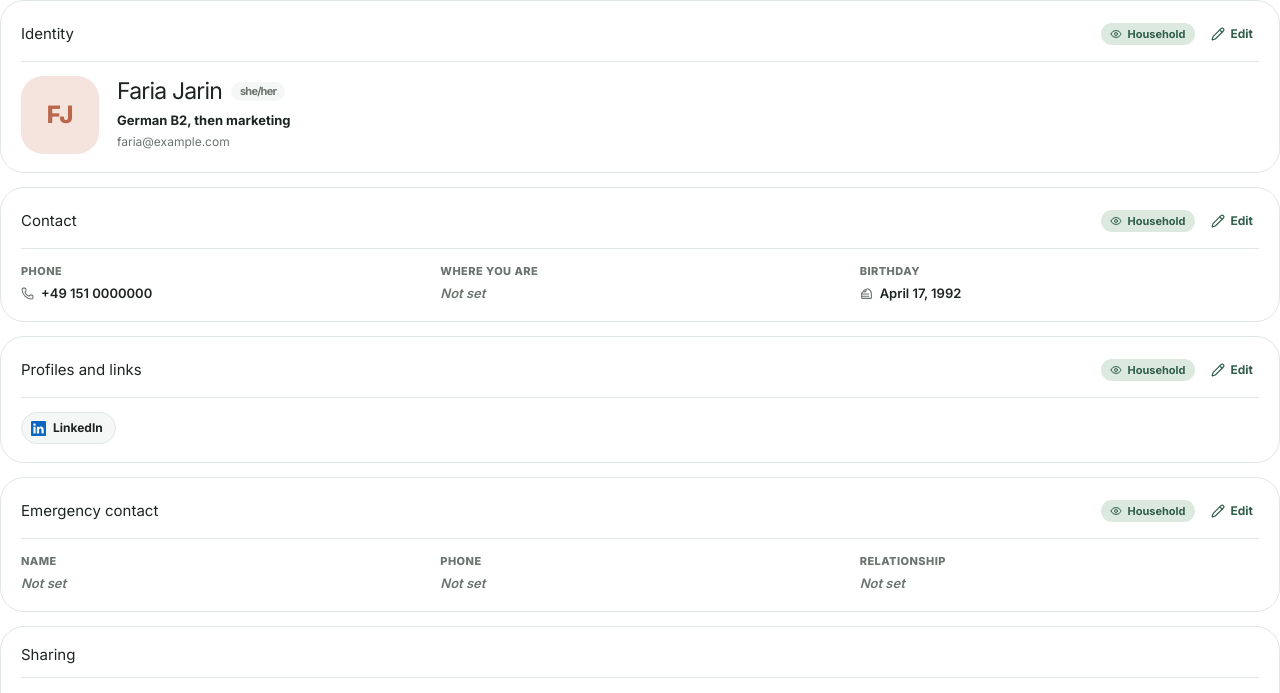
ProfileSettings › saves the section and returns to the profile
The width and height of the screenshot is (1280, 693).
Expected: the heading "Faria Jarin she/her" is shown, x1=117 y1=78 x2=291 y2=106
Click the button with aria-label "Edit identity": coordinates (1232, 34) x1=1204 y1=19 x2=1259 y2=49
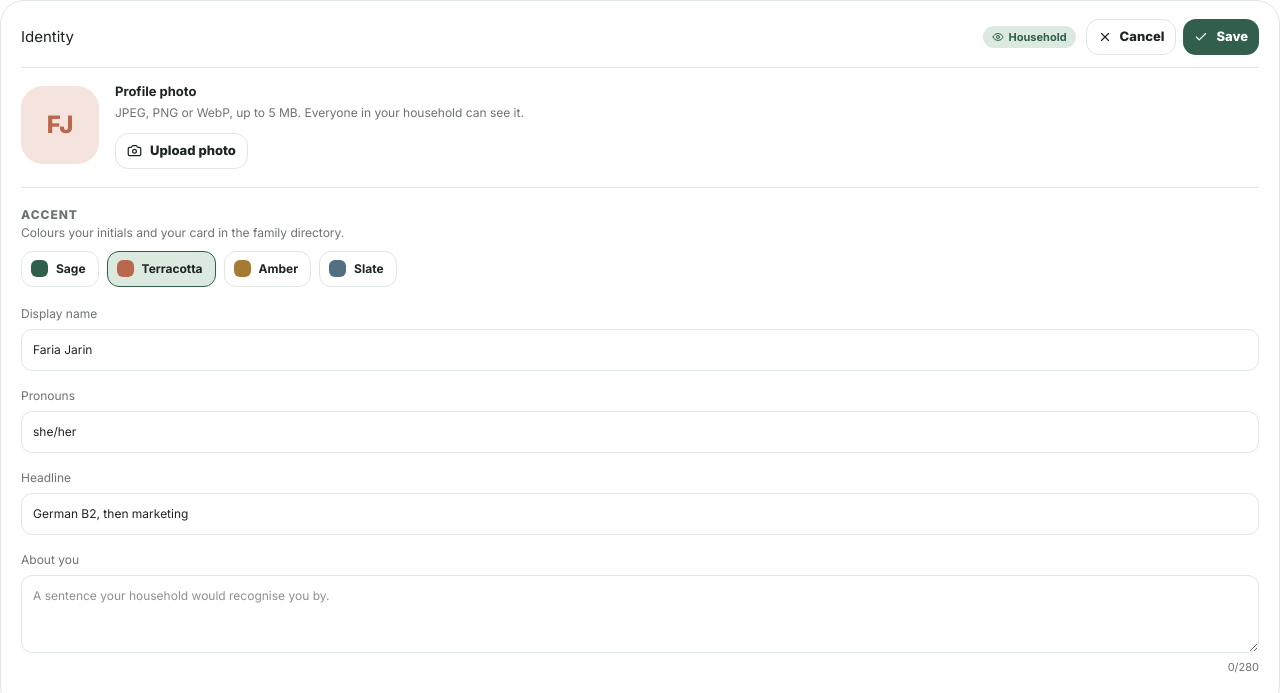
Replace the text in the field labelled "Display name" with "Faria": coordinates (640, 350) x1=21 y1=328 x2=1259 y2=370
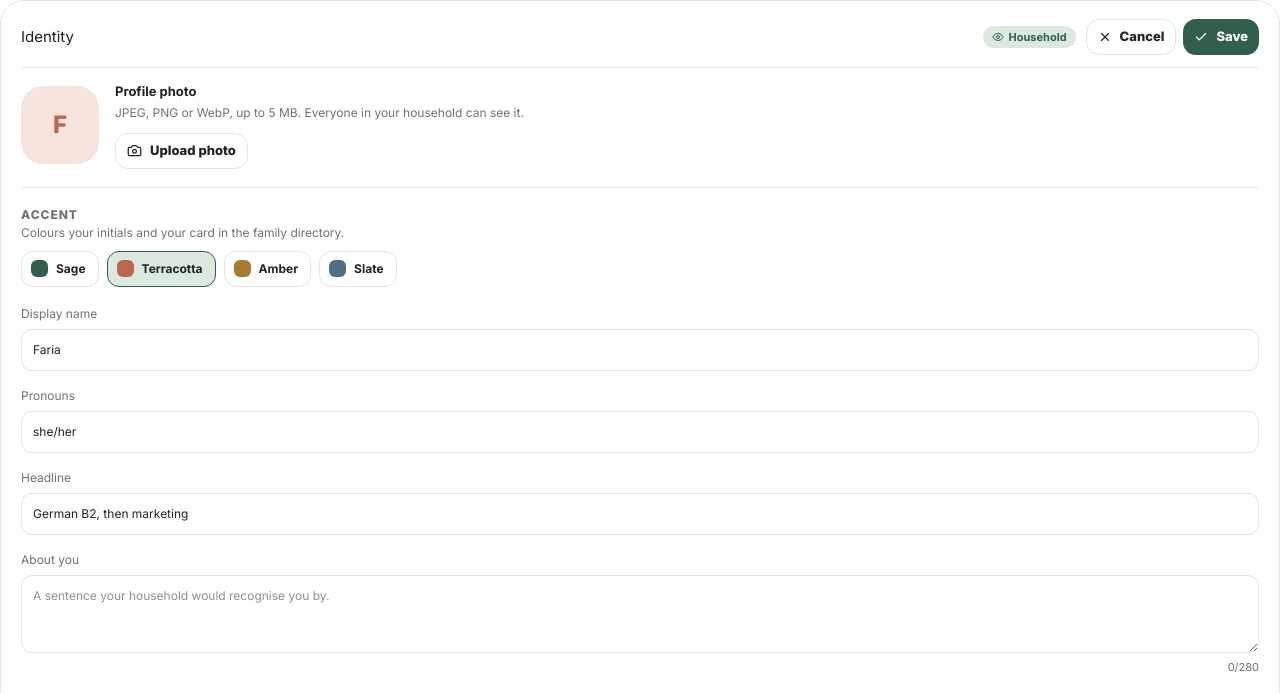
Click the button "Save": coordinates (1221, 37) x1=1183 y1=19 x2=1259 y2=54
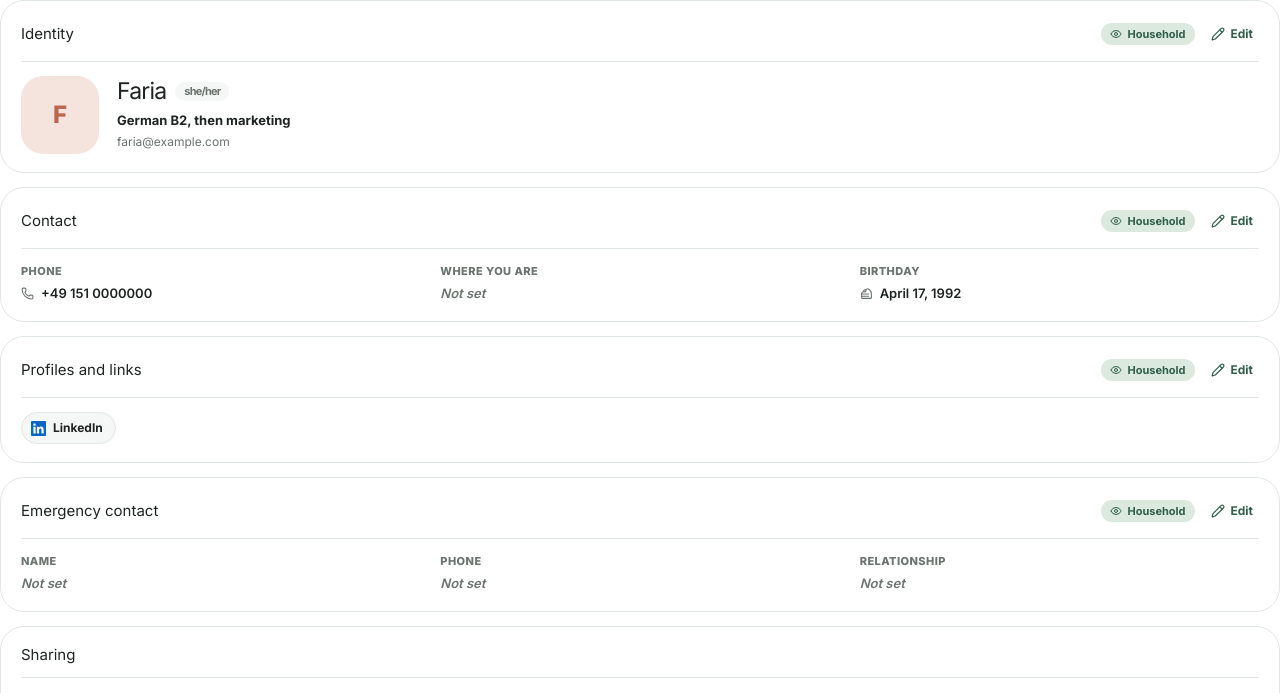
Now the label labelled "Display name" is gone
